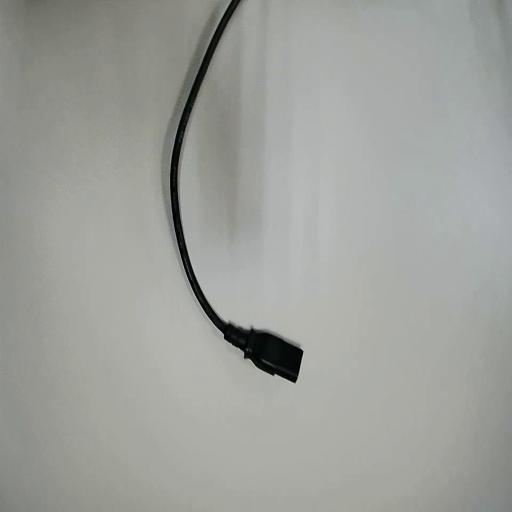wire: (170, 0, 301, 381)
